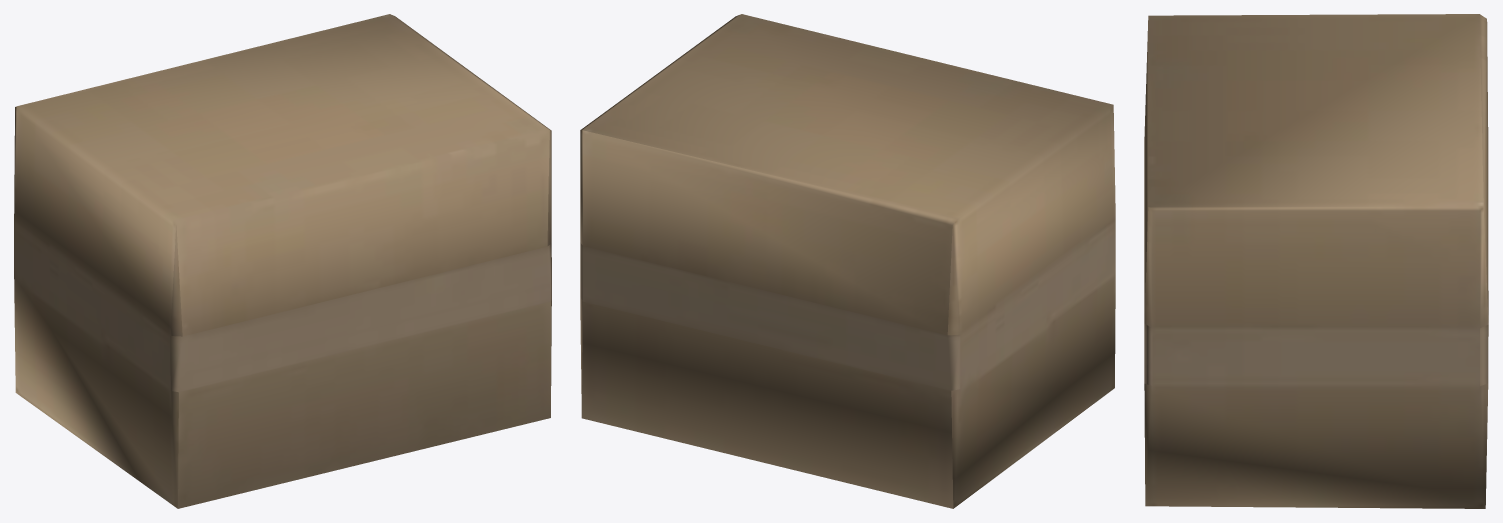
Rendered from carton_a-lo.glb.
3 views of the same model, side by side, from view 1: azimuth 30°, elevation 25°; view 2: azimuth 150°, elevation 25°; view 3: azimuth 270°, elevation 25° (orthographic). The views are drawn at different scales.
Visible parts, largest first — view 1: body; view 2: body; view 3: body.
Boxes of the visible parts, x1=… form: body: x1=14, y1=14, x2=551, y2=508; body: x1=580, y1=14, x2=1115, y2=508; body: x1=1144, y1=14, x2=1488, y2=508.
Size of the model in its own units: 0.6989 by 0.5057 by 0.52.
Materials: 1 (1 with a texture image).
